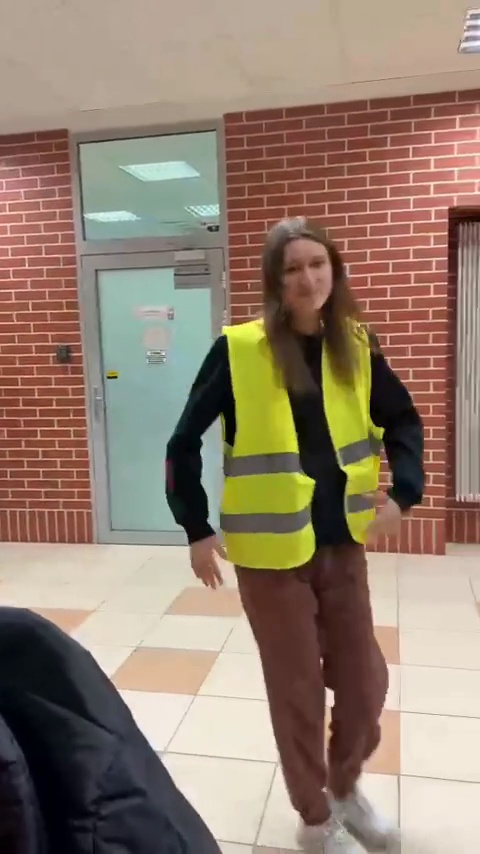vest: (183, 217, 434, 830)
